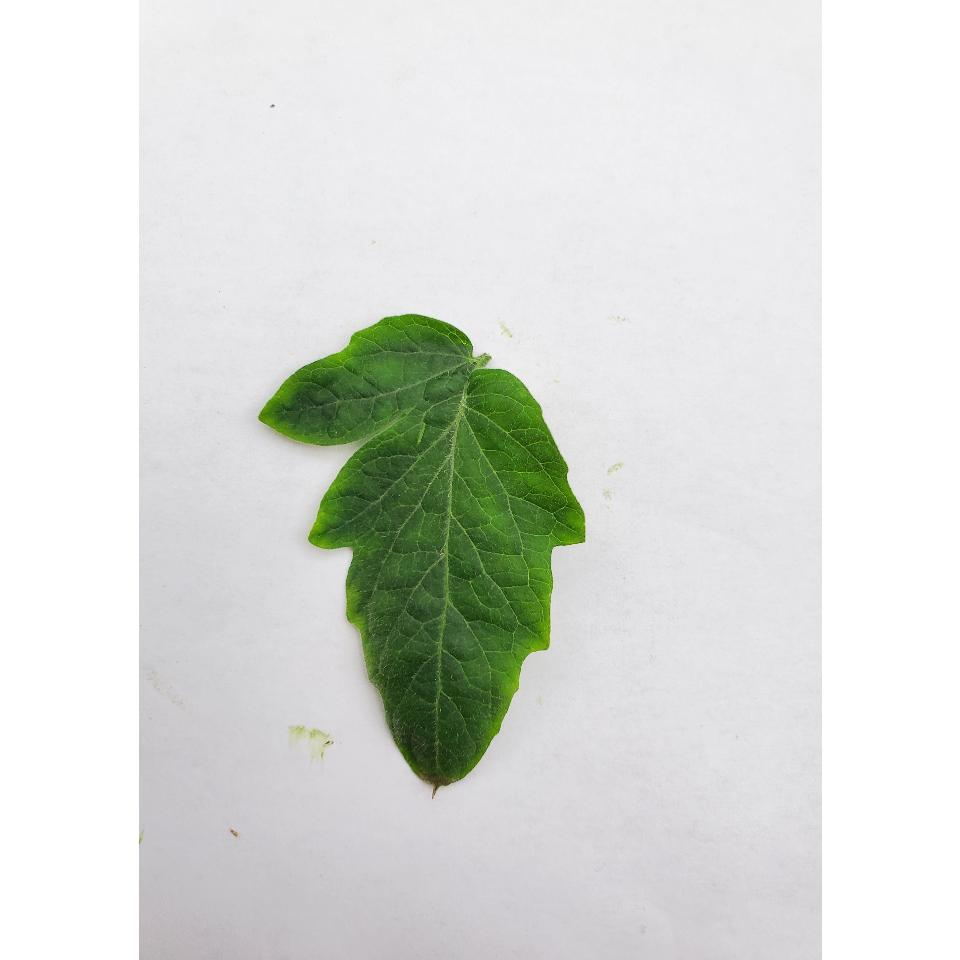tomato_leaves: (264, 314, 584, 798)
